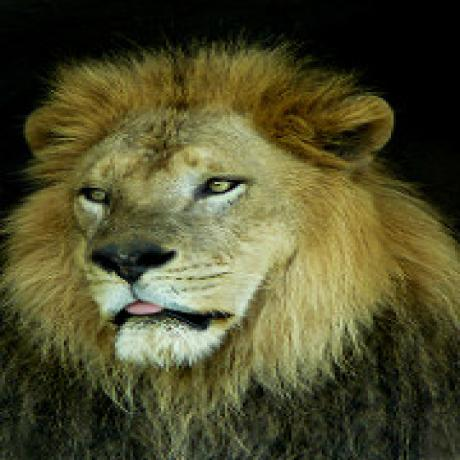Lion: (5, 30, 460, 460)
